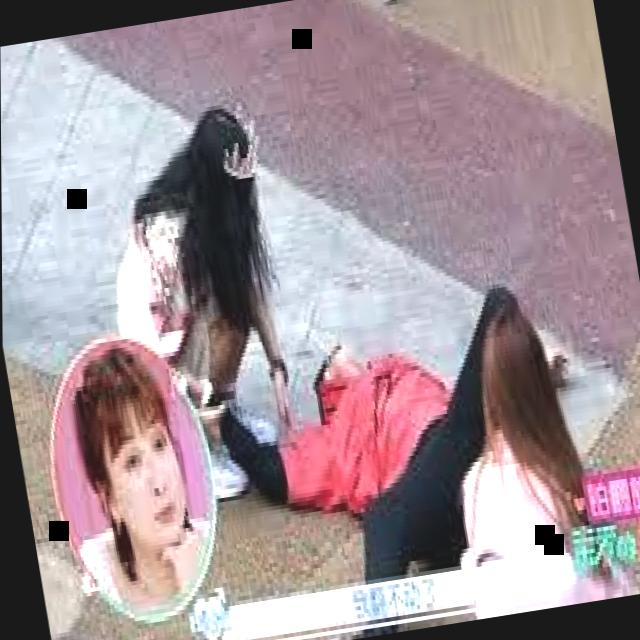Fall-Detected: (174, 245, 597, 640)
